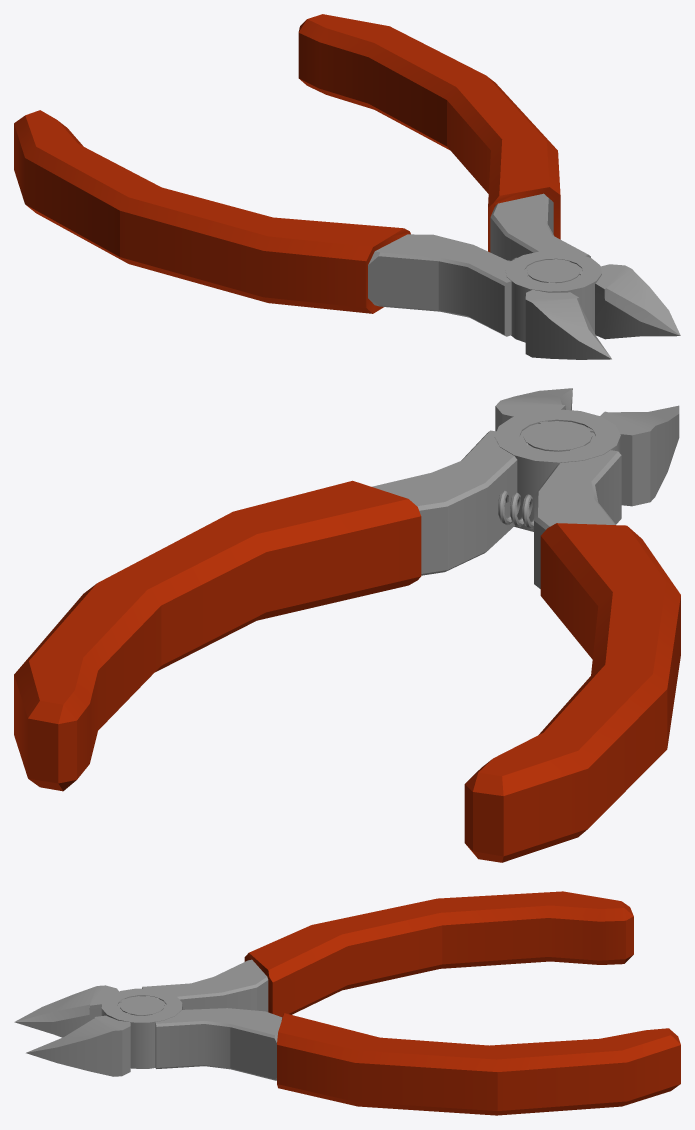
Rendered from Wire_Cutters.fbx.
3 renders of one model, top to bottom at view 1: azimuth 30°, elevation 25°; view 2: azimuth 150°, elevation 25°; view 3: azimuth 270°, elevation 25°, orthographic. The views are drawn at different scales.
Parts seen in each view (by area): view 1: pasted__pHelix2; view 2: pasted__pHelix2; view 3: pasted__pHelix2.
Part boxes in pixels (x1,y1,x2,y2): pasted__pHelix2: (14,14,680,359); pasted__pHelix2: (14,388,680,862); pasted__pHelix2: (14,891,680,1115).
Bounding box in the file's own units: 0.3539 × 0.0525 × 0.5664.
